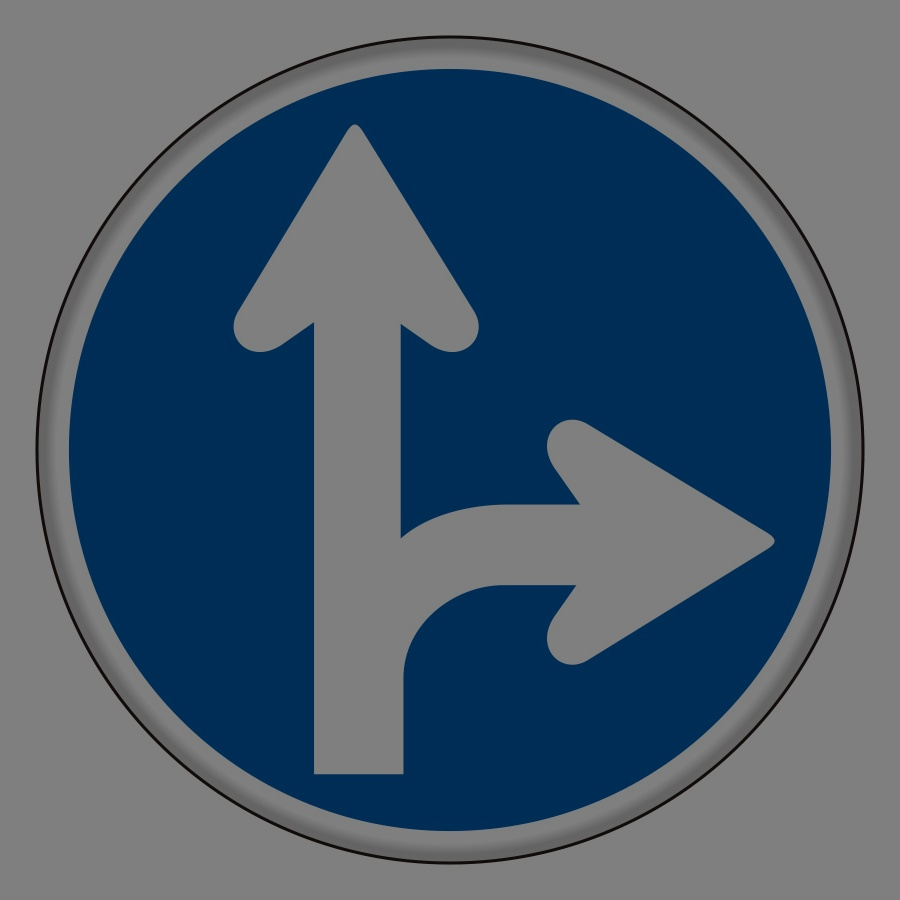Direction_sign: (21, 14, 892, 866)
